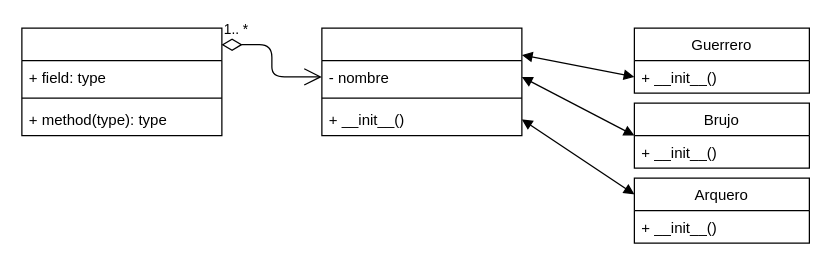
This 831x269 diagram has some shape labels left out. The box of each missing label's shape, as (x1, y1, x2, y2) in pixels:
JuegoAventura: (21, 27, 222, 136)
Personaje: (321, 27, 522, 136)
